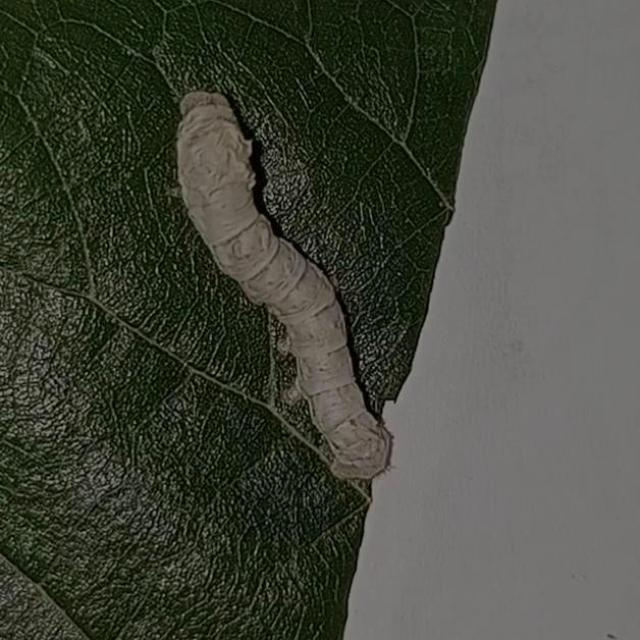Healthy: (159, 82, 422, 490)
